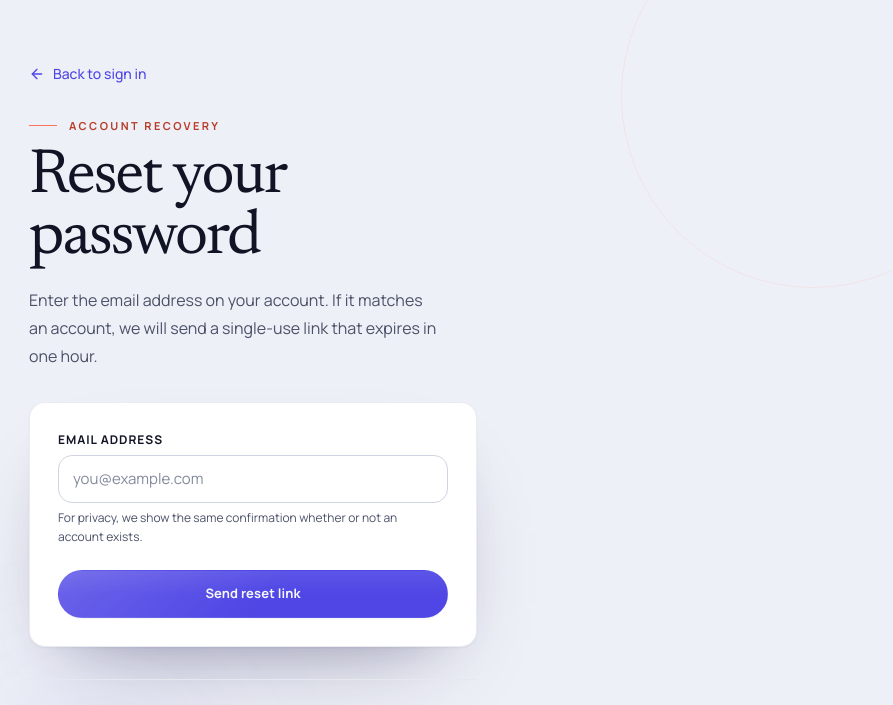
it: ForgotPasswordPage › requests a reset link and shows an enumeration-safe confirmation
The width and height of the screenshot is (893, 705).
Type "asha@example.com" into the field labelled "Email address". click: coordinates (253, 479)
box: [58,455,448,503]
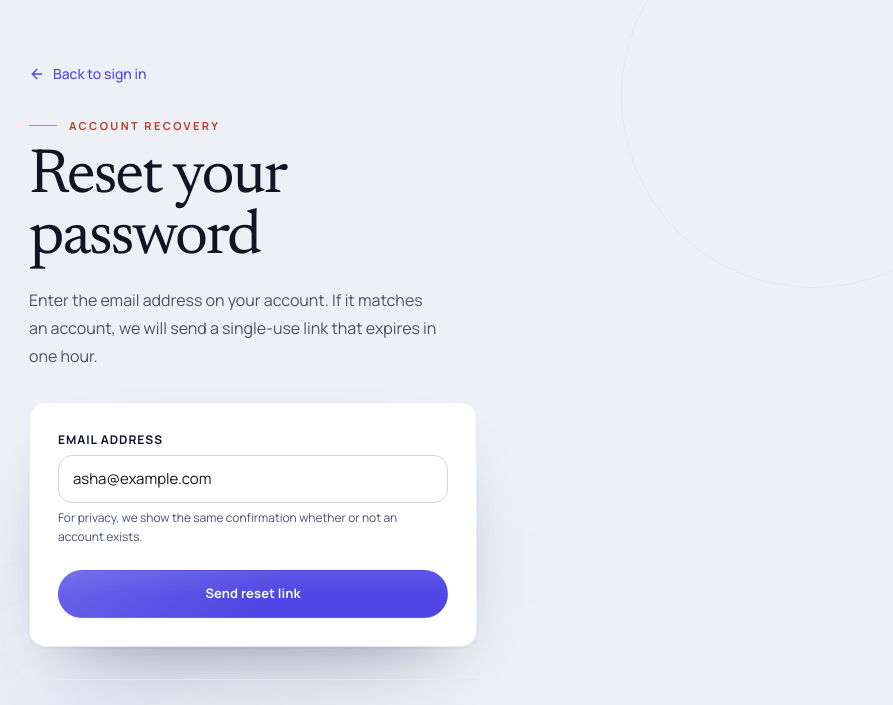
Click the button "Send reset link". click: coordinates (253, 594)
box: [58,570,448,618]
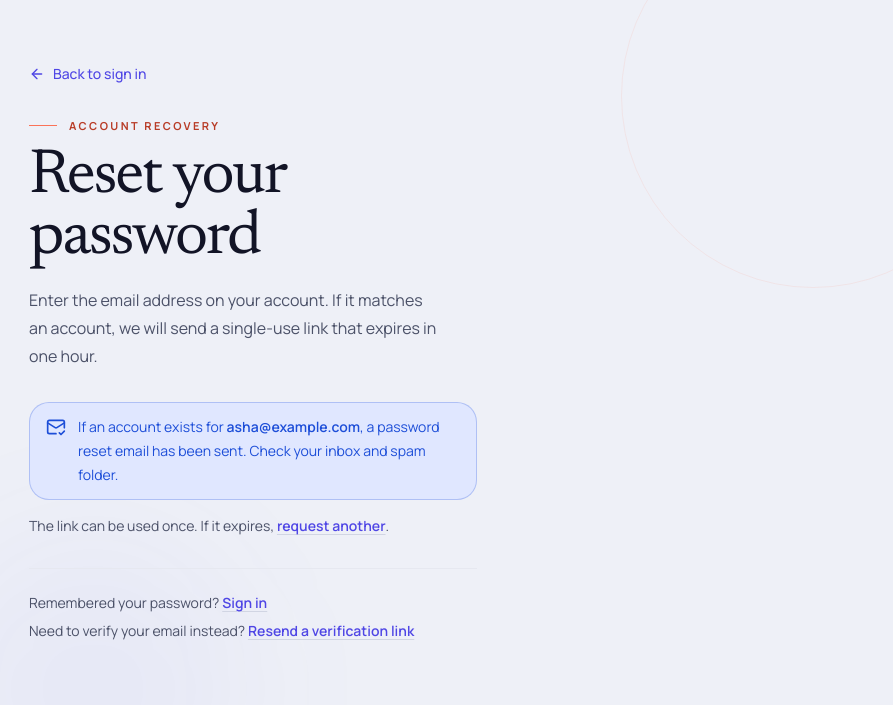
Check: the text "If an account exists for" is shown, box [78,417,224,436]
